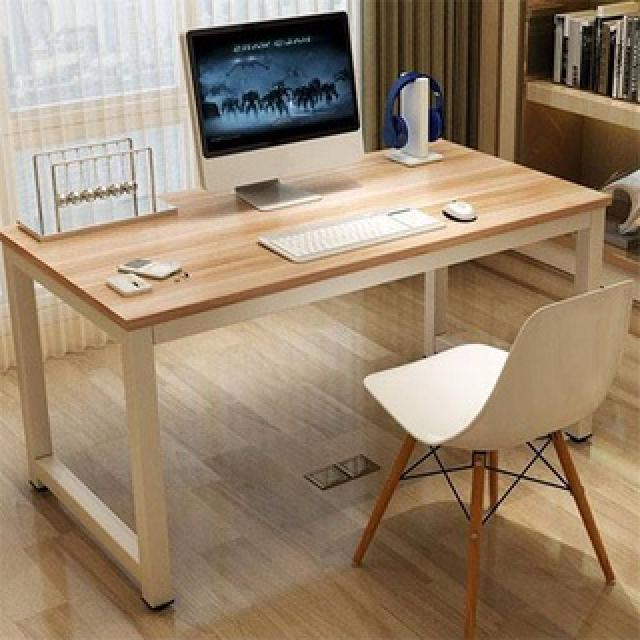table: (7, 114, 611, 335)
